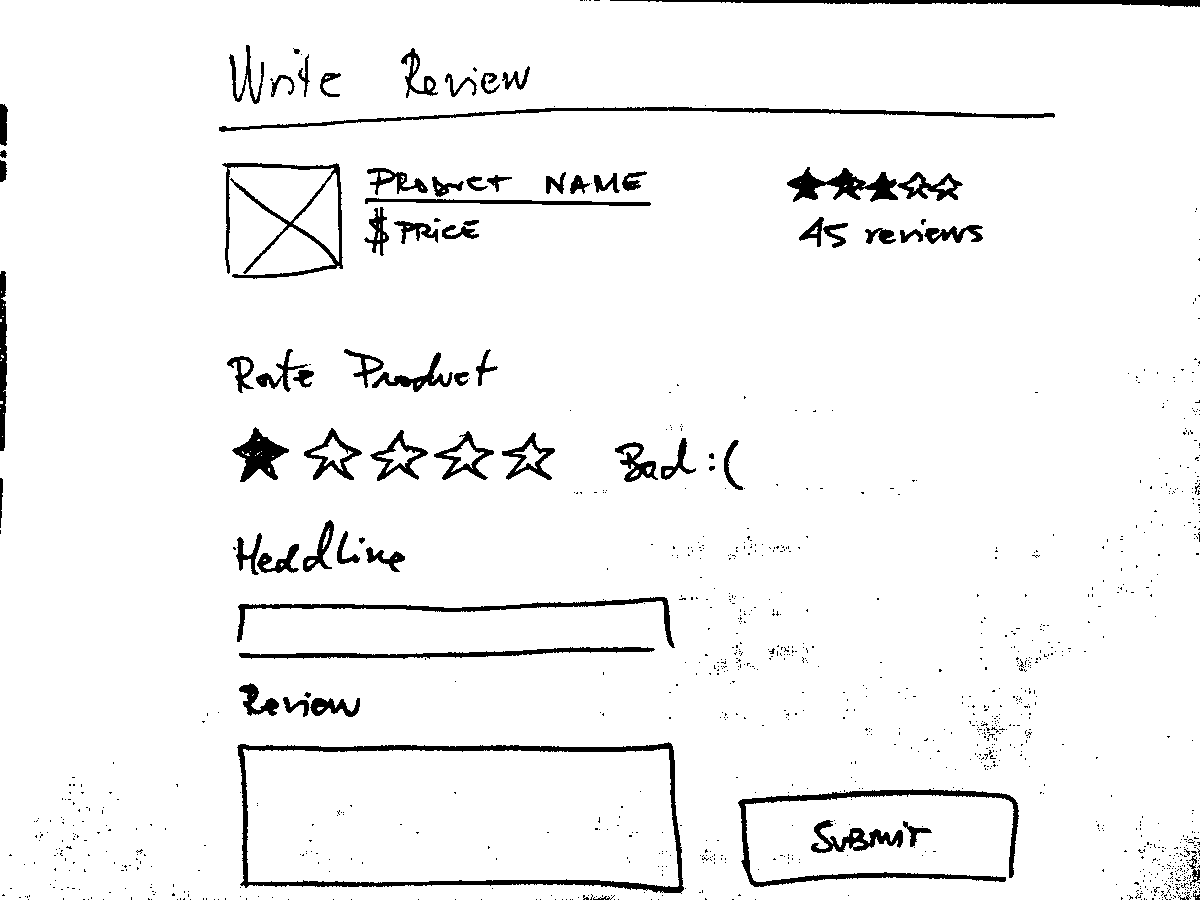Button: (736, 784, 1020, 892)
Image: (220, 156, 349, 284)
Textbox: (232, 589, 679, 664)
